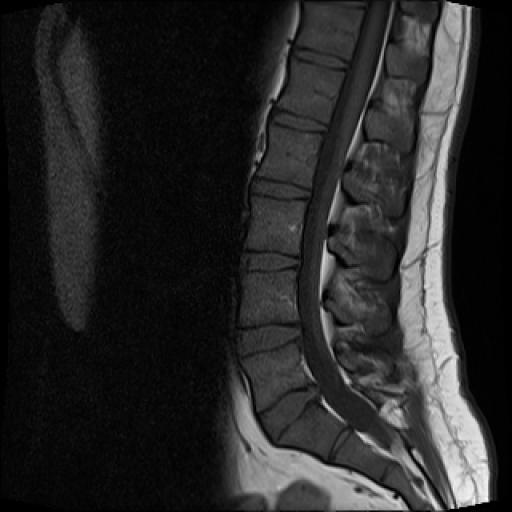L1: (296, 2, 366, 61)
L2: (276, 55, 345, 124)
L3: (257, 123, 322, 188)
L4: (246, 196, 307, 256)
L5: (237, 269, 299, 329)
S1: (278, 401, 410, 492)
